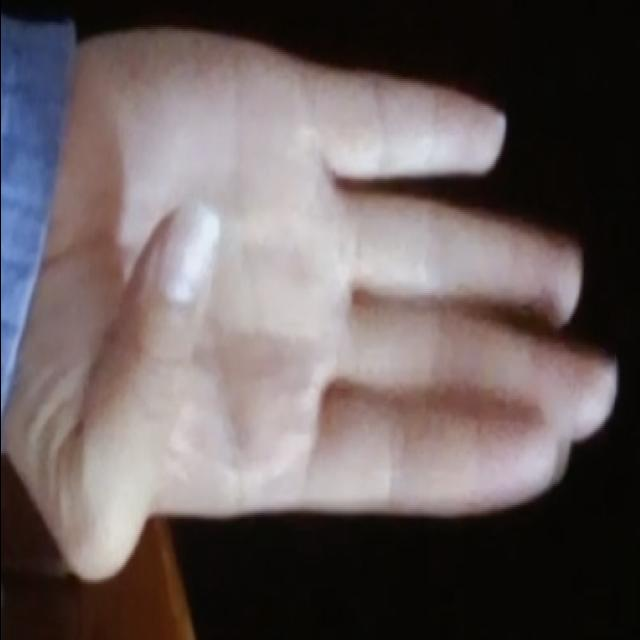B: (14, 19, 626, 612)
